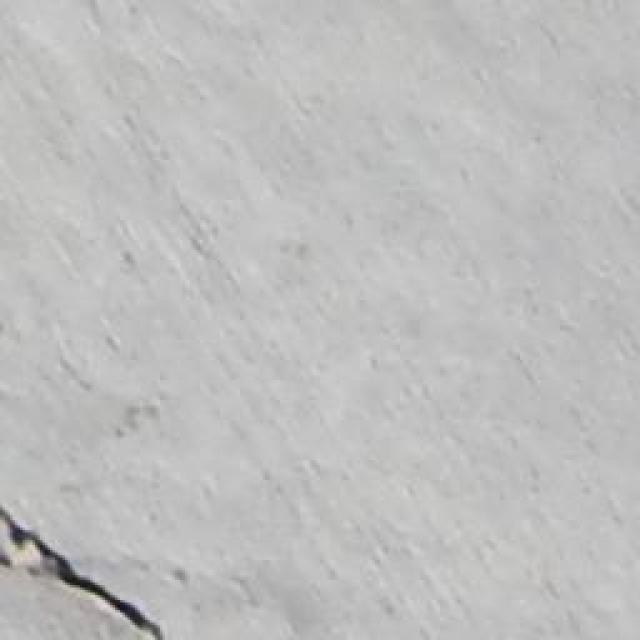concrete-crack: (2, 508, 169, 640)
